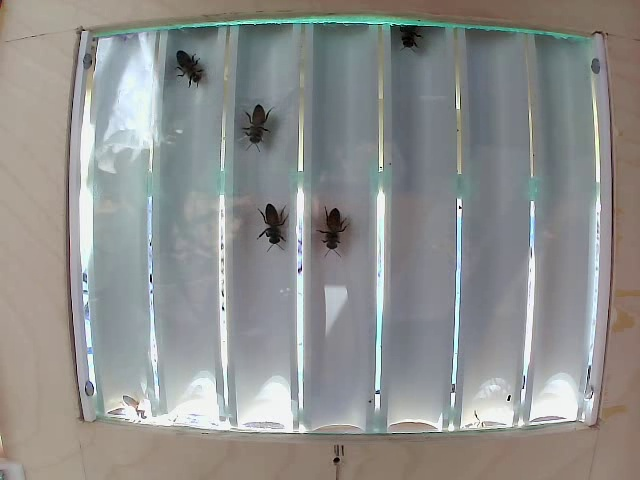bee: (311, 204, 364, 267), (168, 55, 216, 98), (233, 95, 269, 148), (259, 199, 289, 259)
